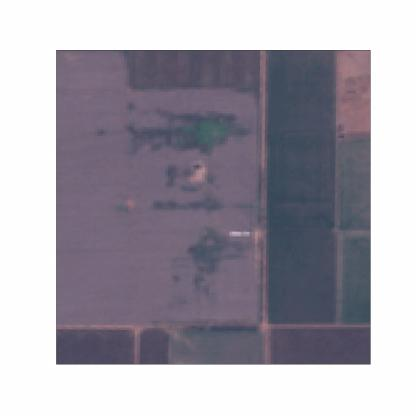silobolsa: (227, 228, 254, 238)
